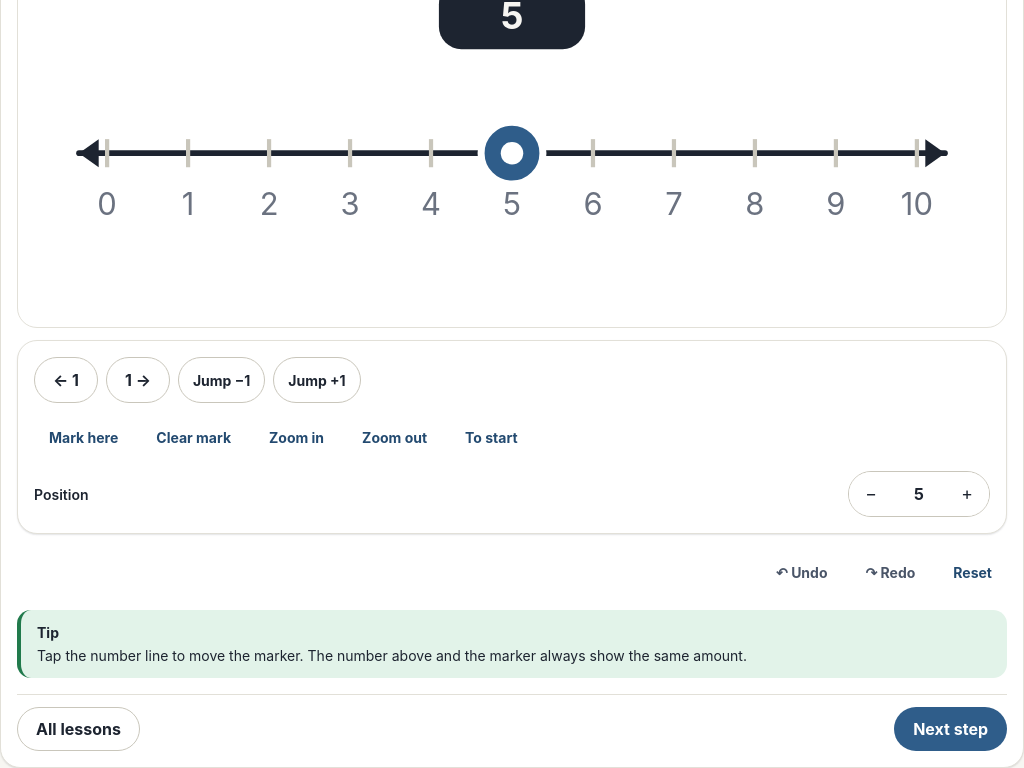
Test: LessonPage › reports honestly when progress cannot be saved
The width and height of the screenshot is (1024, 768).
(page scrolled)
Click the button with test id "next-step" at (951, 729), box [894,707,1007,751]
(page scrolled)
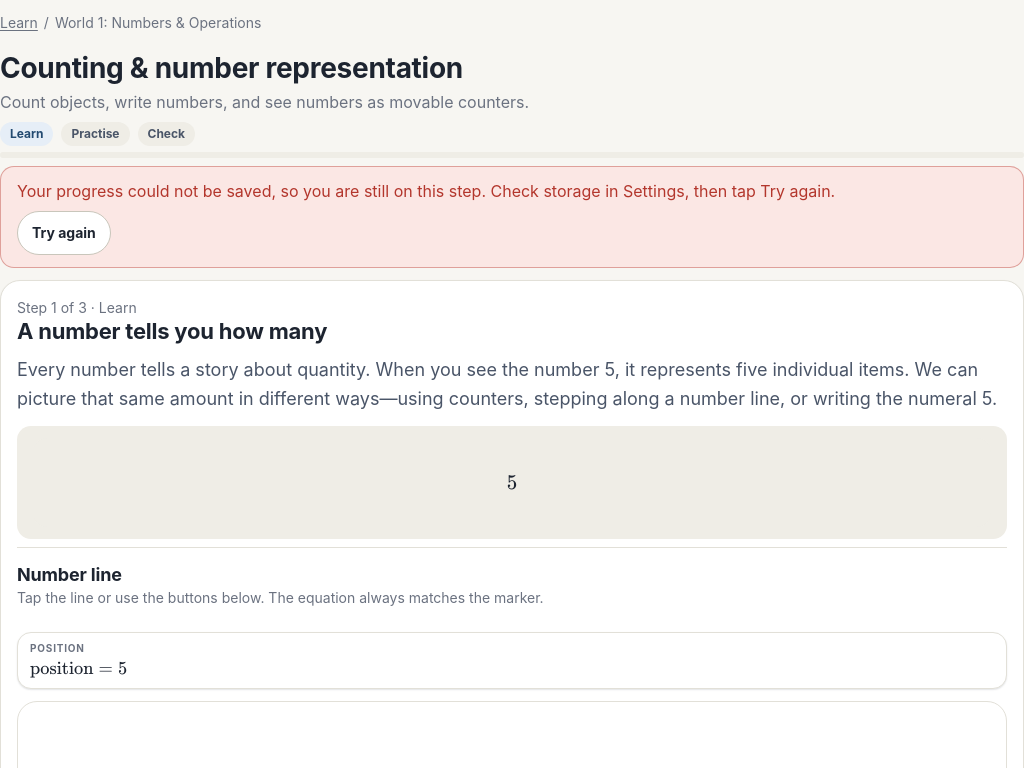
Expected: the text with test id "step-indicator" shows "Step 1 of", [17,299,87,316]
Expected: the text "could not be saved" is shown, [17,181,835,201]
